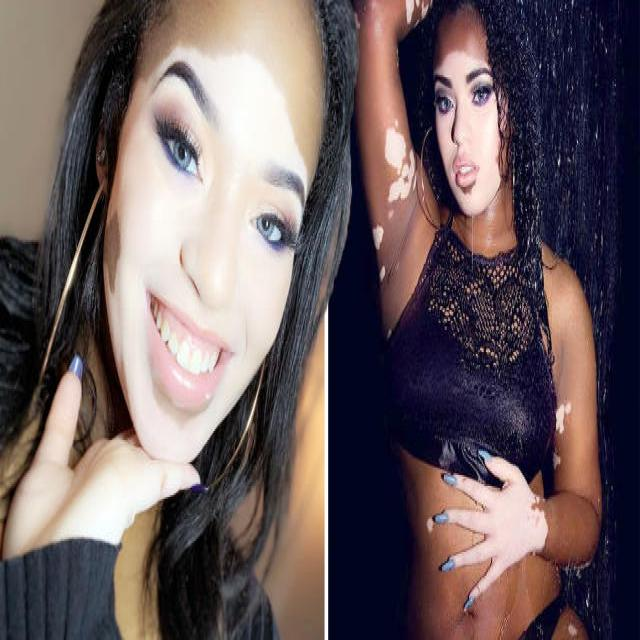vitiligo: (162, 0, 296, 106), (277, 39, 317, 154), (140, 371, 209, 428), (106, 198, 129, 323)
